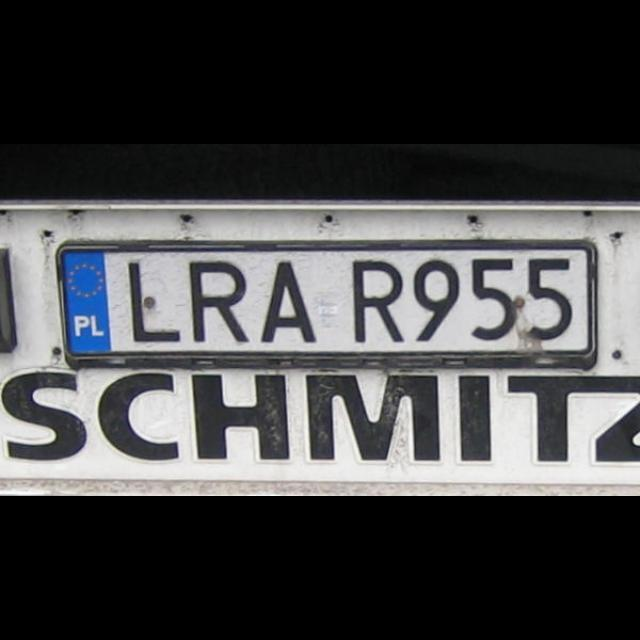license-plates: (59, 242, 598, 369)
